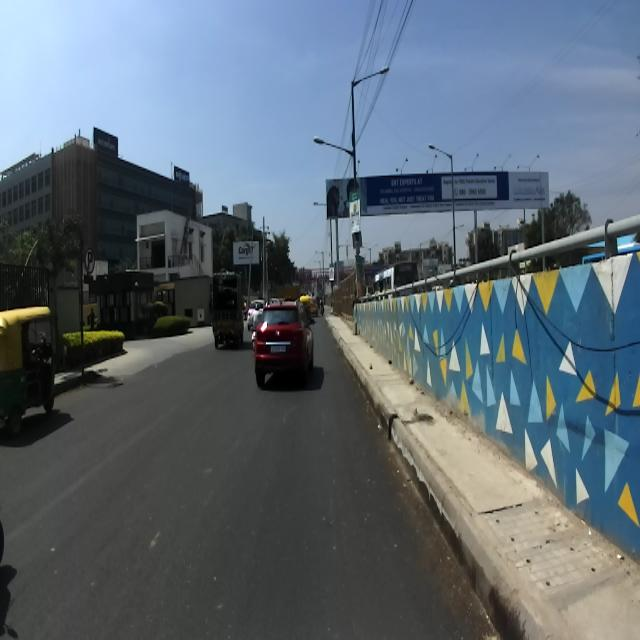auto ahead at: (0, 302, 58, 424)
car ahead at: (250, 296, 318, 404)
